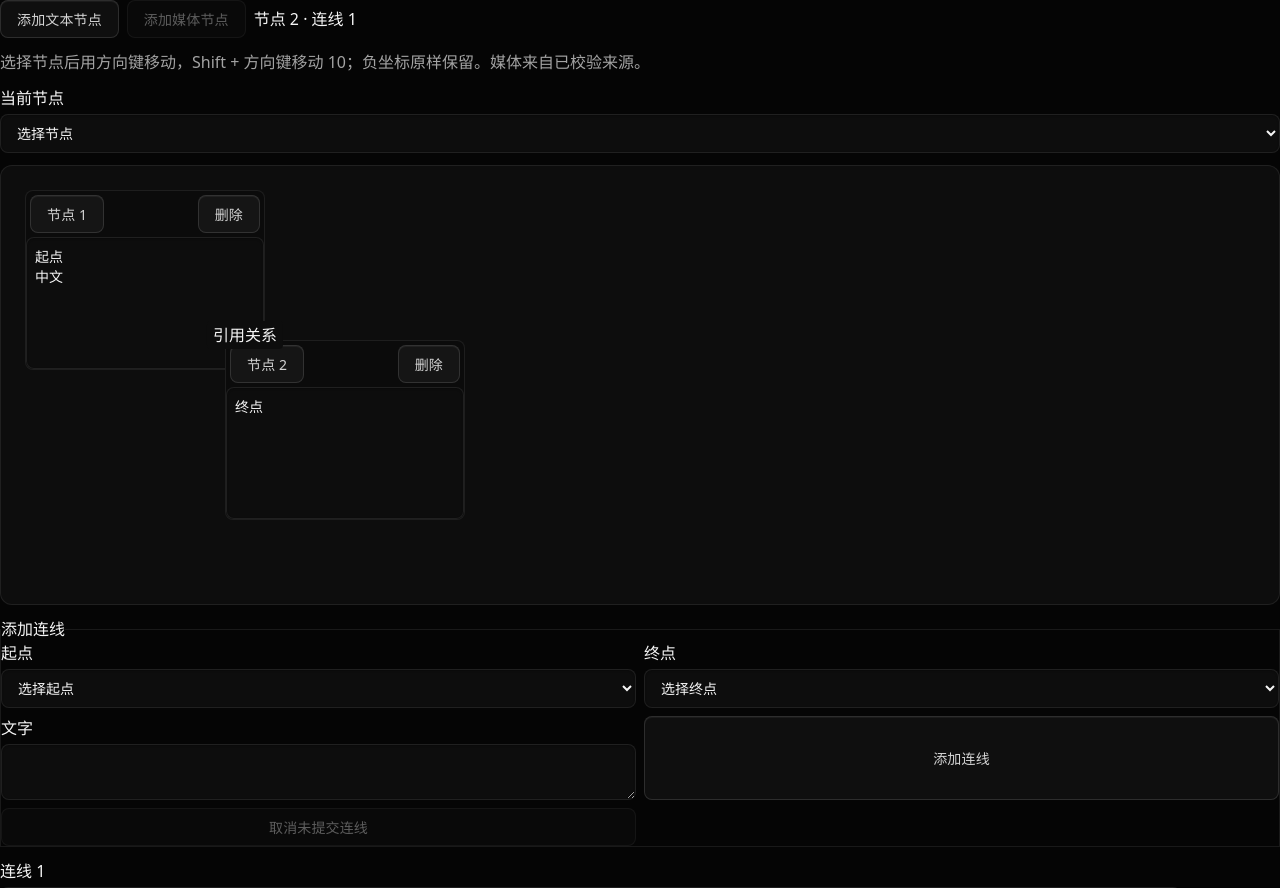
it: CanonicalExpressionBoard › rejects a missing endpoint instead of inventing a node
Click the button "添加连线" at (962,758), box [644,716,1279,800]
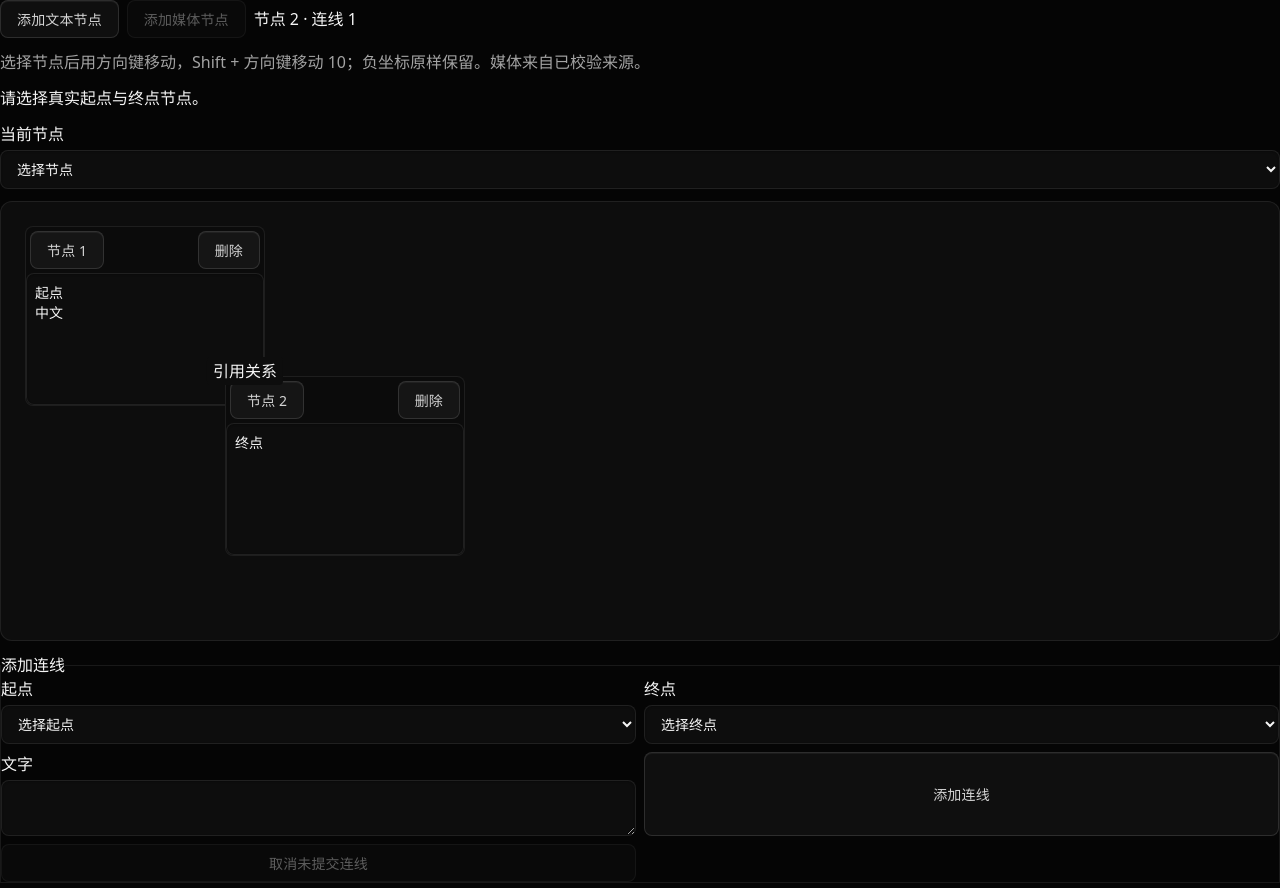
Check: the message shows "真实起点", box [0,87,208,109]
